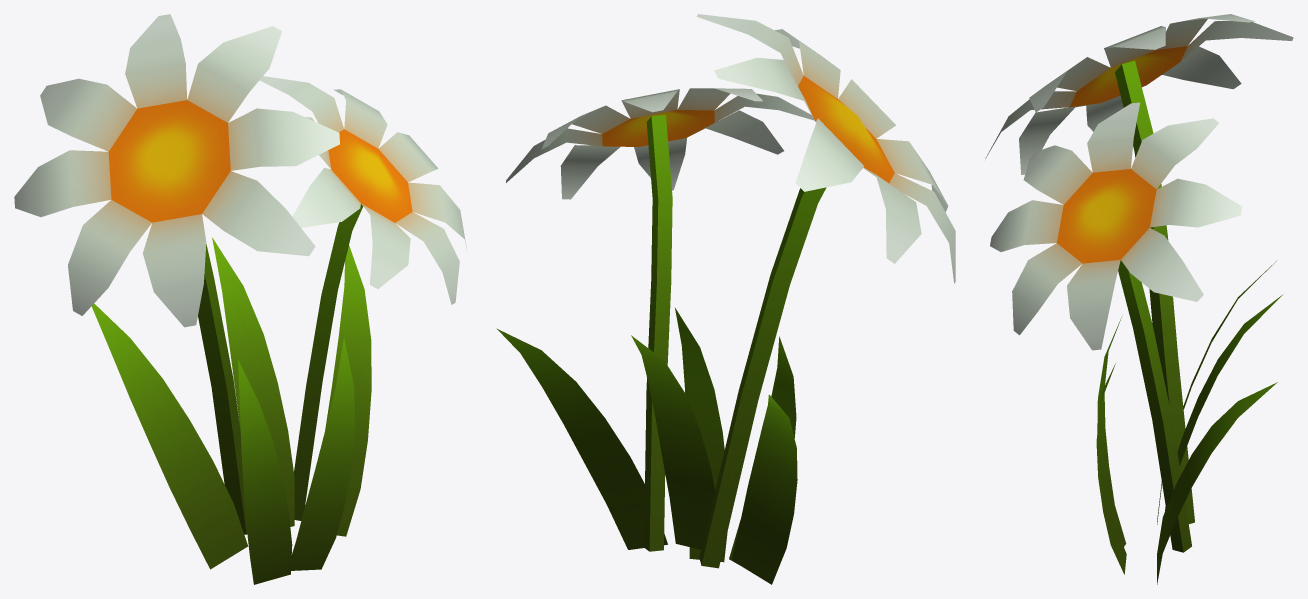
The model's file is Mesh_Flower02.fbx.
3 renders of one model, left to right at view 1: azimuth 30°, elevation 25°; view 2: azimuth 150°, elevation 25°; view 3: azimuth 270°, elevation 25°, orthographic. The views are drawn at different scales.
Parts seen in each view (by area): view 1: Mesh_Flower02; view 2: Mesh_Flower02; view 3: Mesh_Flower02.
Boxes of the visible parts, bbox=[...] form: Mesh_Flower02: bbox=[14, 14, 467, 584]; Mesh_Flower02: bbox=[496, 14, 955, 584]; Mesh_Flower02: bbox=[985, 14, 1293, 584].
Size of the model in its own units: 0.5437 by 0.7191 by 0.3905.
